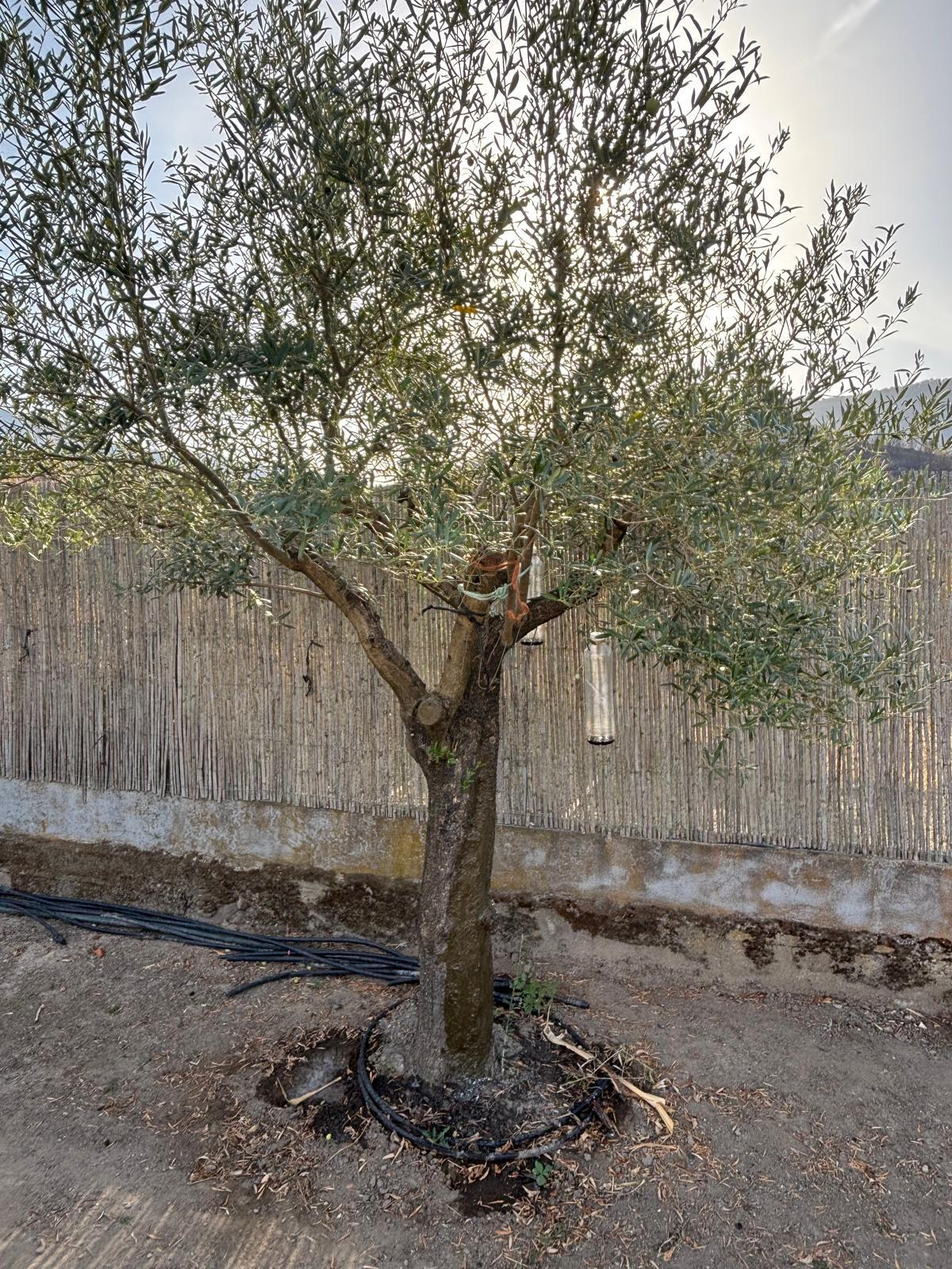olivo: (106, 186, 785, 1115)
